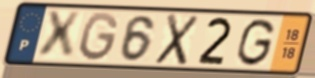2: (196, 16, 232, 67)
6: (120, 13, 159, 63)
G: (77, 10, 121, 63), (235, 17, 278, 68)
X: (152, 12, 202, 68), (37, 10, 83, 61)
